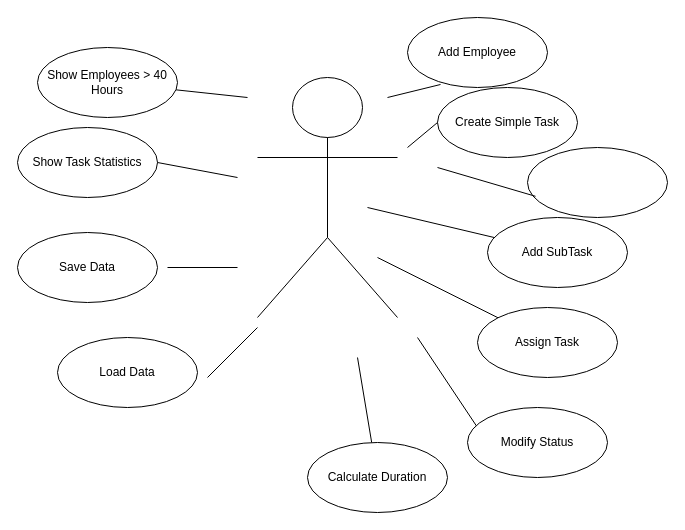
The diagram is 685 pixels wide and 530 high, and some of its shapes have lost their labels. Here are the shapes that lost their labels. From the top down, the box of each, then its label:
(256, 76, 398, 318): User (Project Manager)
(526, 146, 668, 218): Create Complex Task
